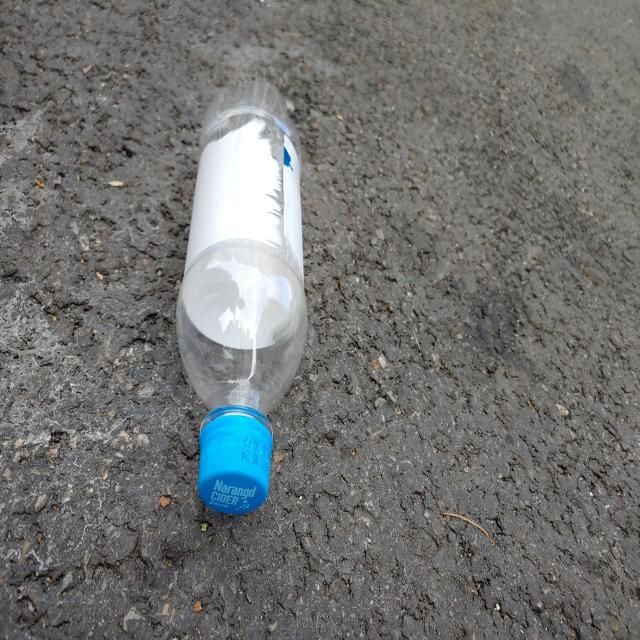plastic: (176, 78, 308, 514)
